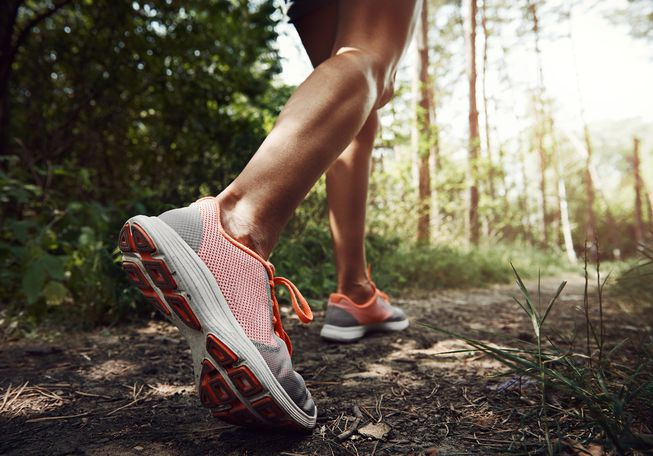feet: (96, 109, 434, 436)
